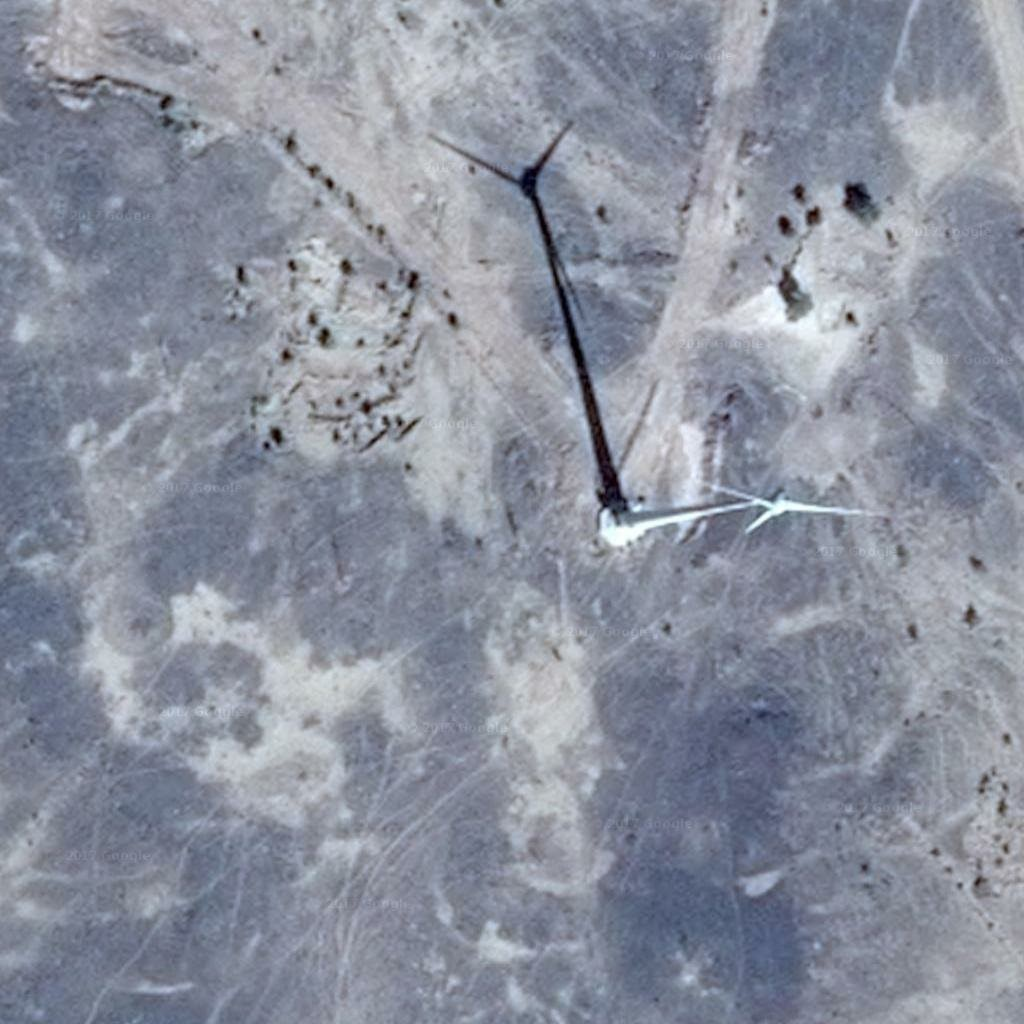Windmill: (423, 115, 653, 534)
